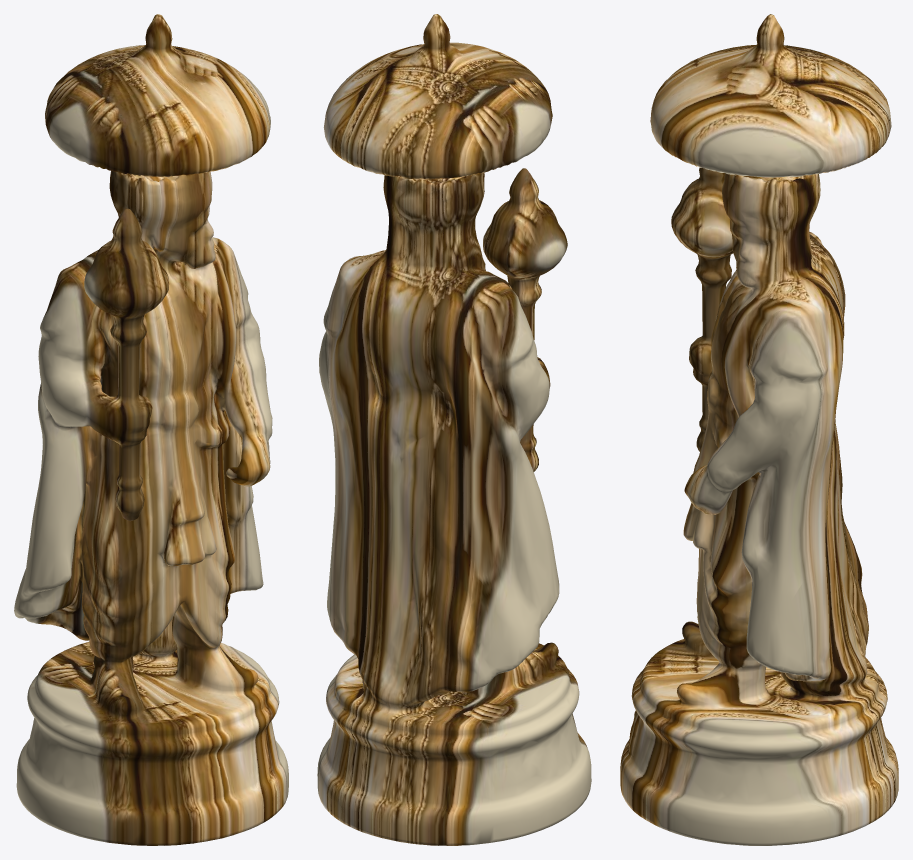
Rendered from raja.glb.
3 views of the same model, side by side, from view 1: azimuth 30°, elevation 25°; view 2: azimuth 150°, elevation 25°; view 3: azimuth 270°, elevation 25° (orthographic).
Visible parts, largest first — view 1: geometry_0; view 2: geometry_0; view 3: geometry_0.
Boxes of the visible parts, box(x1,y1,x2,y2) form: geometry_0: box(14, 14, 288, 845); geometry_0: box(317, 14, 591, 845); geometry_0: box(620, 14, 898, 845).
Bounding box in the file's own units: 0.6233 × 1.96 × 0.6331.
1 material, 1 textured.
